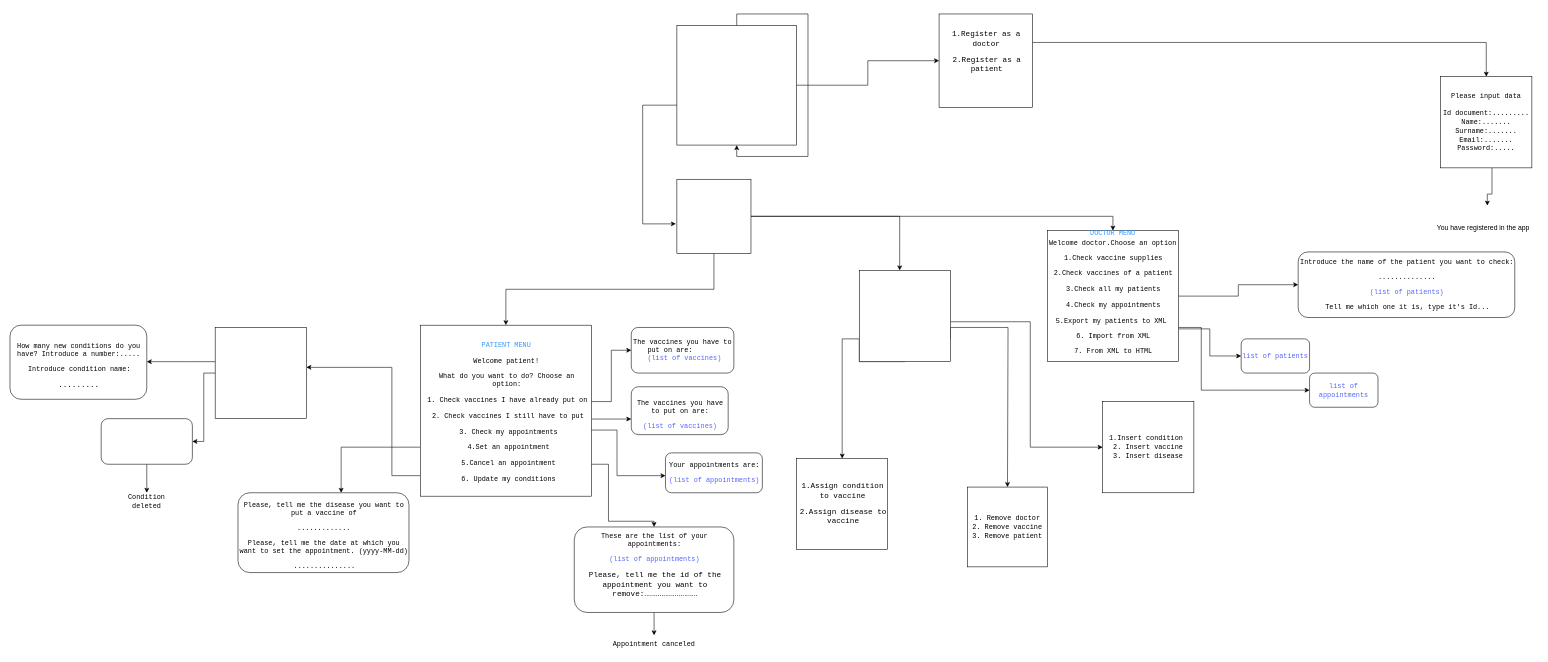
Some shapes in this 1548 by 662 pixel diagram are drawn without their labels. The shapes that lost their labels are listed below. From the top down, each one's centre as x and y in pixels, then its label:
(x=736, y=85): Welcome to the Vaccination app! 1.Register 2.Log in. 0. Exit
(x=713, y=216): Username:....... Password:.......
(x=904, y=316): DIRECTOR MENU What do you want to do? 1.Insert data 2.Remove data 3.Assign data
(x=260, y=373): 1. Add new conditions 2. Delete existing conditions
(x=146, y=441): Which condition do you want to remove, type it's name:.....
